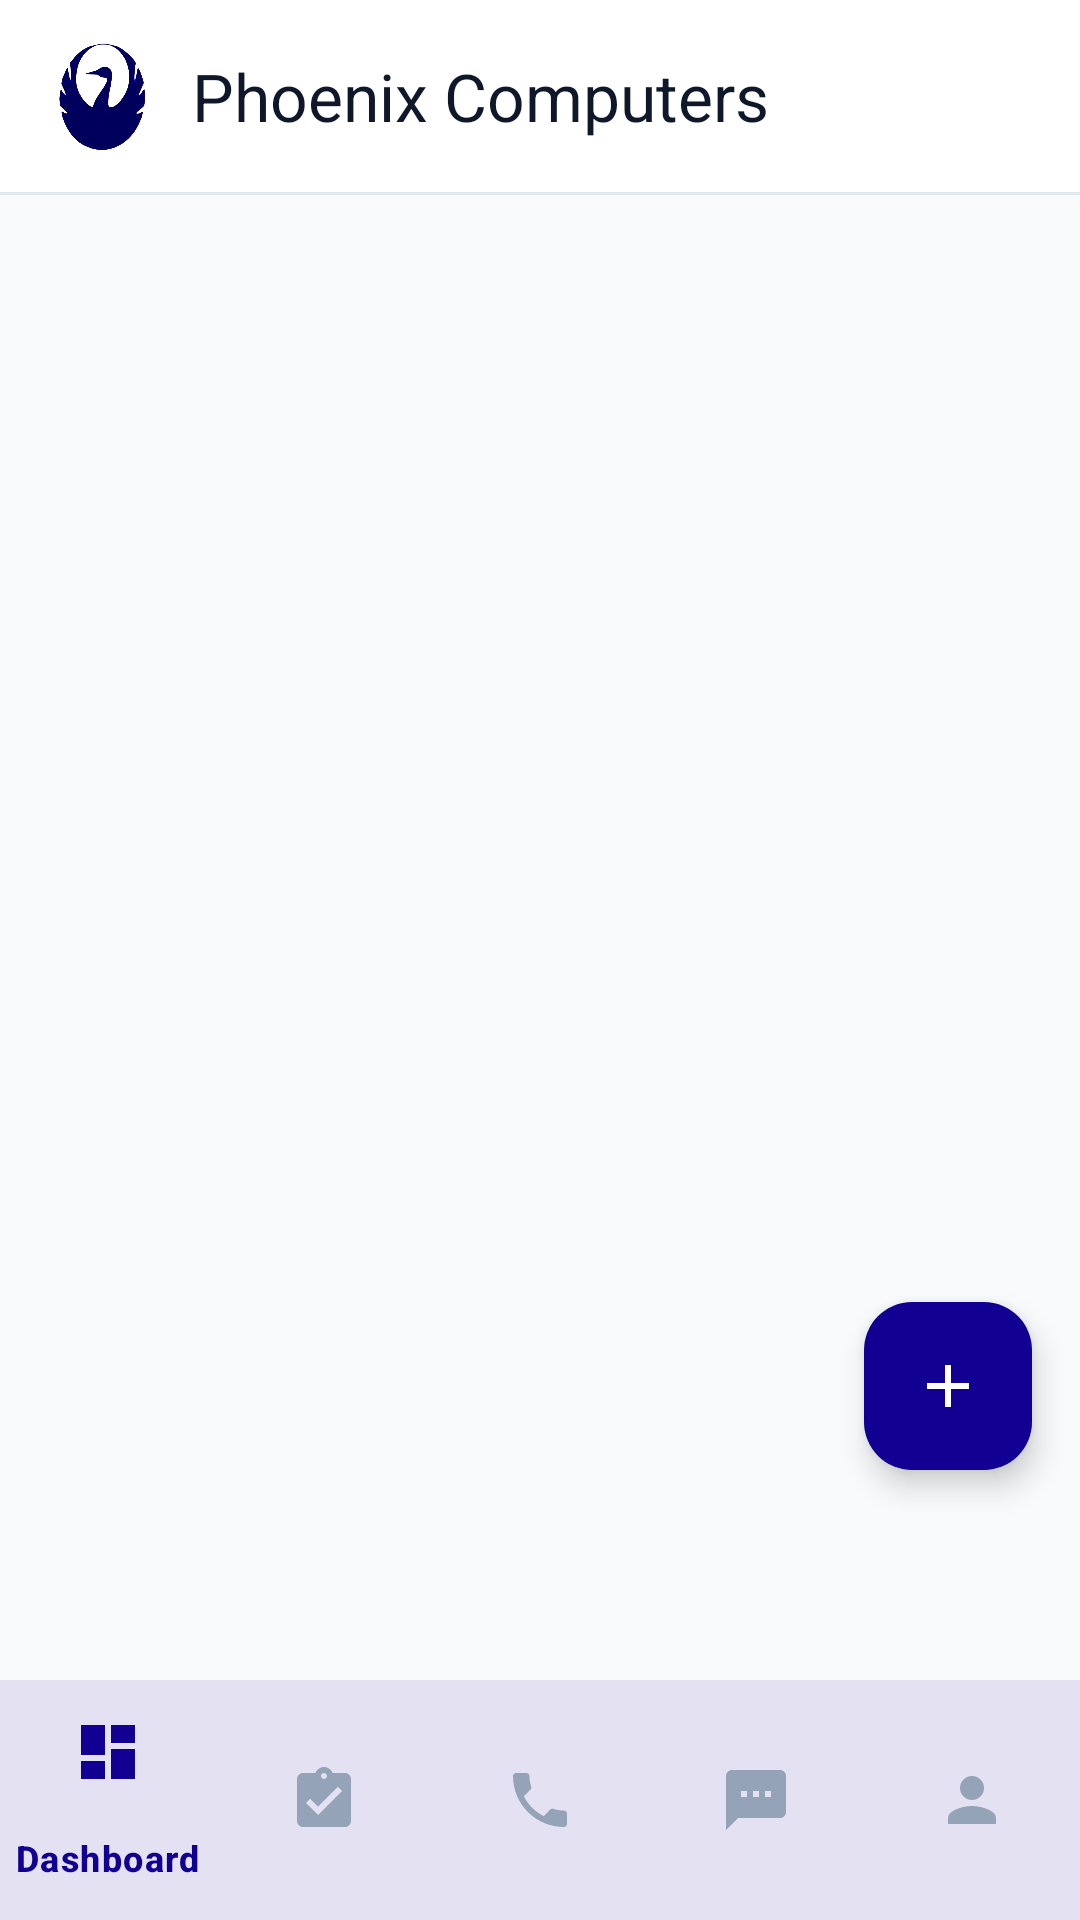

Named icons in this screenshot (1080 x 1920) and their centers, (x=x, y=y):
New Task: (x=948, y=1386)
